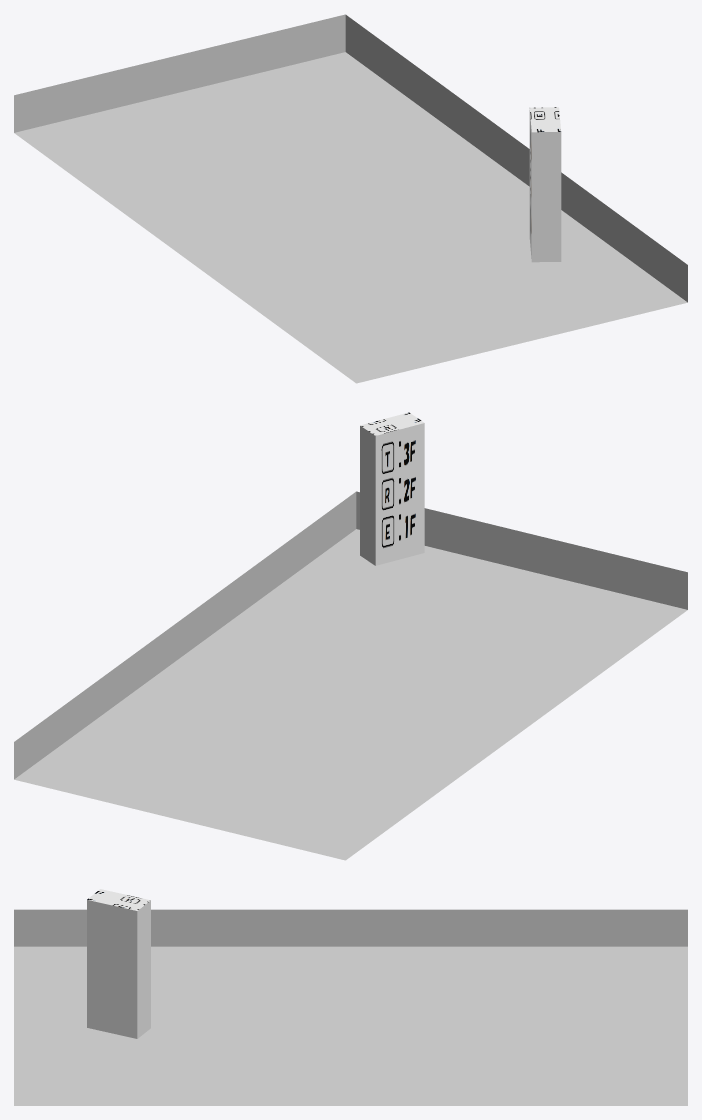
The model's file is Lift.gltf.
3 views of the same model, one above another, from view 1: azimuth 30°, elevation 25°; view 2: azimuth 150°, elevation 25°; view 3: azimuth 270°, elevation 25° (orthographic).
Visible parts, largest first — view 1: Cube, Cube.001; view 2: Cube, Cube.001; view 3: Cube, Cube.001.
Part boxes in pixels (x1,y1,x2,y2): Cube: (14, 14, 687, 383); Cube.001: (529, 107, 561, 262); Cube: (14, 491, 687, 860); Cube.001: (360, 412, 424, 565); Cube: (14, 909, 687, 1105); Cube.001: (87, 889, 150, 1038).
Size of the model in its own units: 7.11 by 3.39 by 12.71.
1 material, 1 textured.
